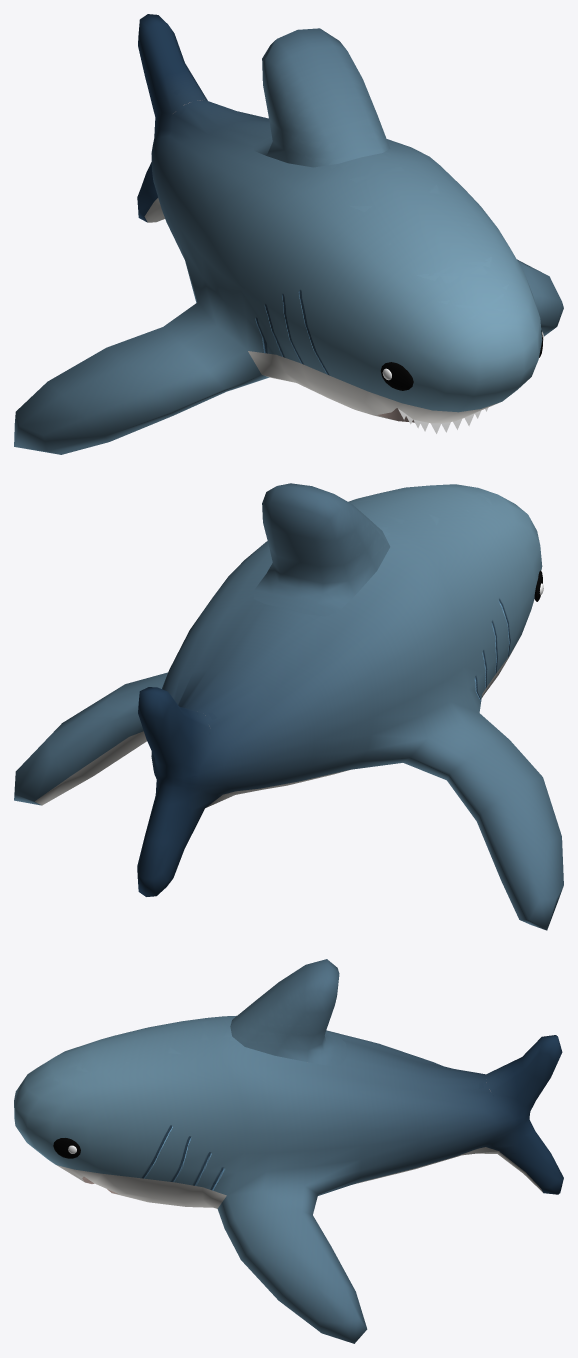
The model's file is shark.fbx.
3 renders of one model, top to bottom at view 1: azimuth 30°, elevation 25°; view 2: azimuth 150°, elevation 25°; view 3: azimuth 270°, elevation 25°, orthographic. The views are drawn at different scales.
Visible parts, largest first — view 1: shark, eye; view 2: shark; view 3: shark.
Part boxes in pixels (bbox=[...]): shark: bbox=[14, 14, 563, 454]; eye: bbox=[380, 330, 542, 390]; shark: bbox=[14, 483, 563, 930]; shark: bbox=[14, 959, 563, 1343].
Bounding box in the file's own units: 0.2245 × 0.2598 × 0.1472.
